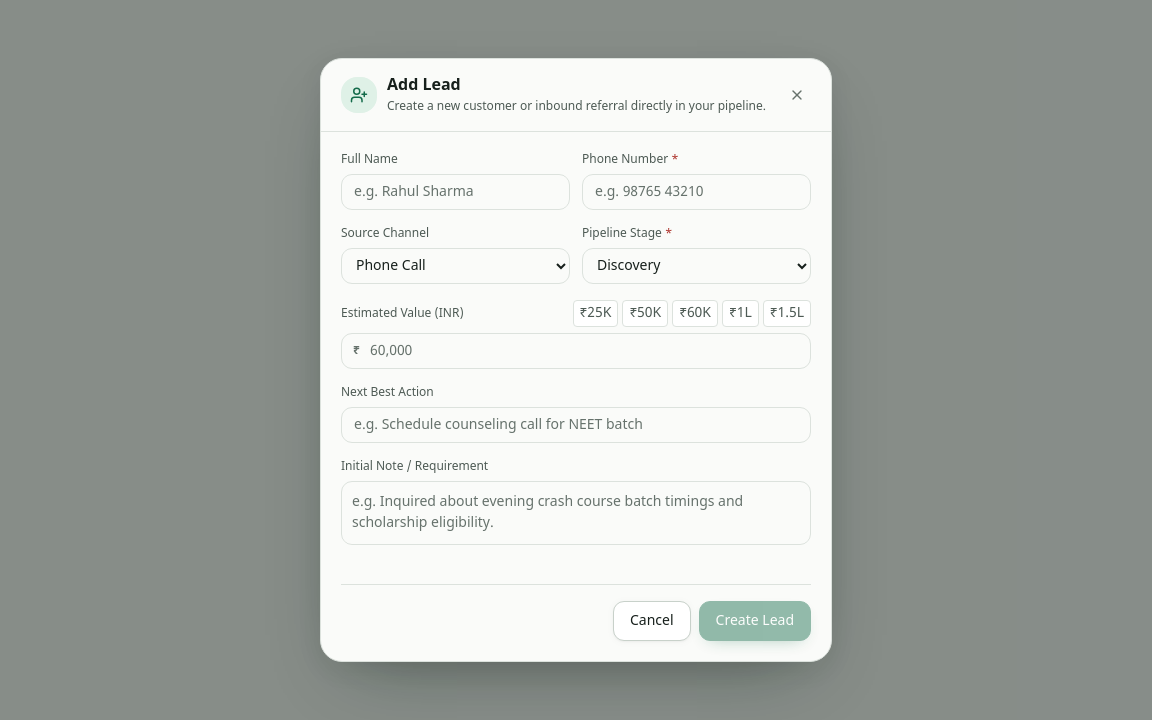
Test: AddLeadModal › refuses +91 as a phone number instead of minting a junk contact
In the field with placeholder "e.g. 98765 43210": (696, 192) [582,174,811,210], type "+91"
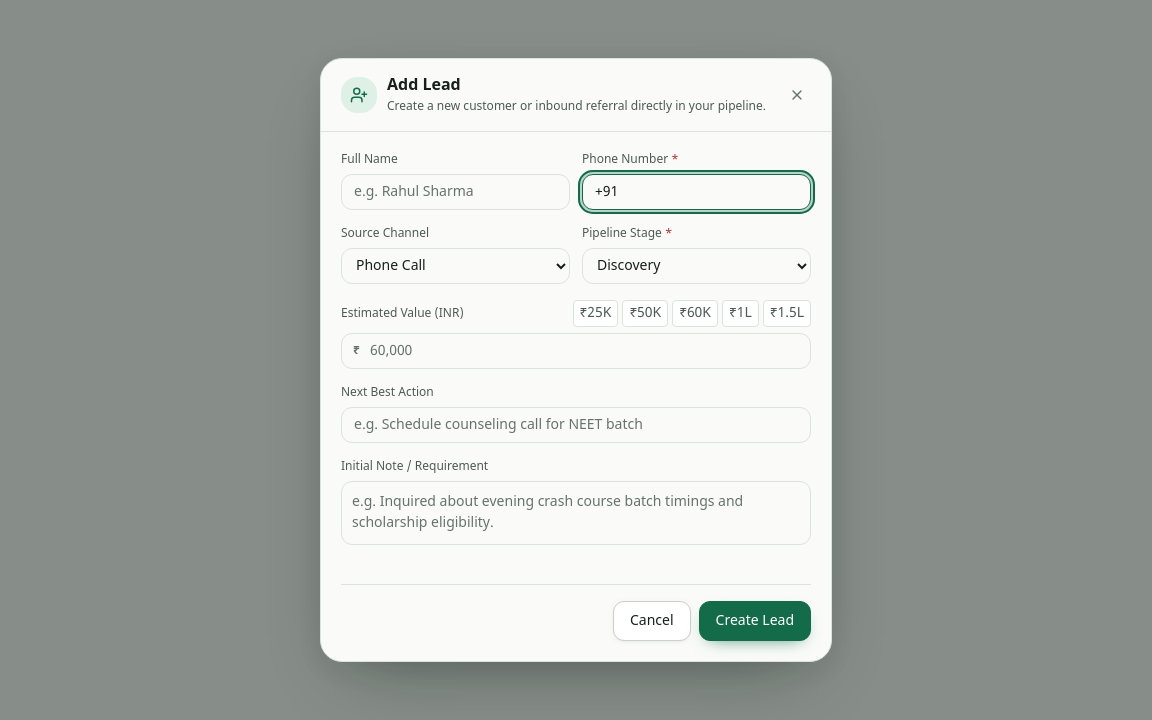
Click the button "Create Lead": (755, 621) [699,601,811,641]
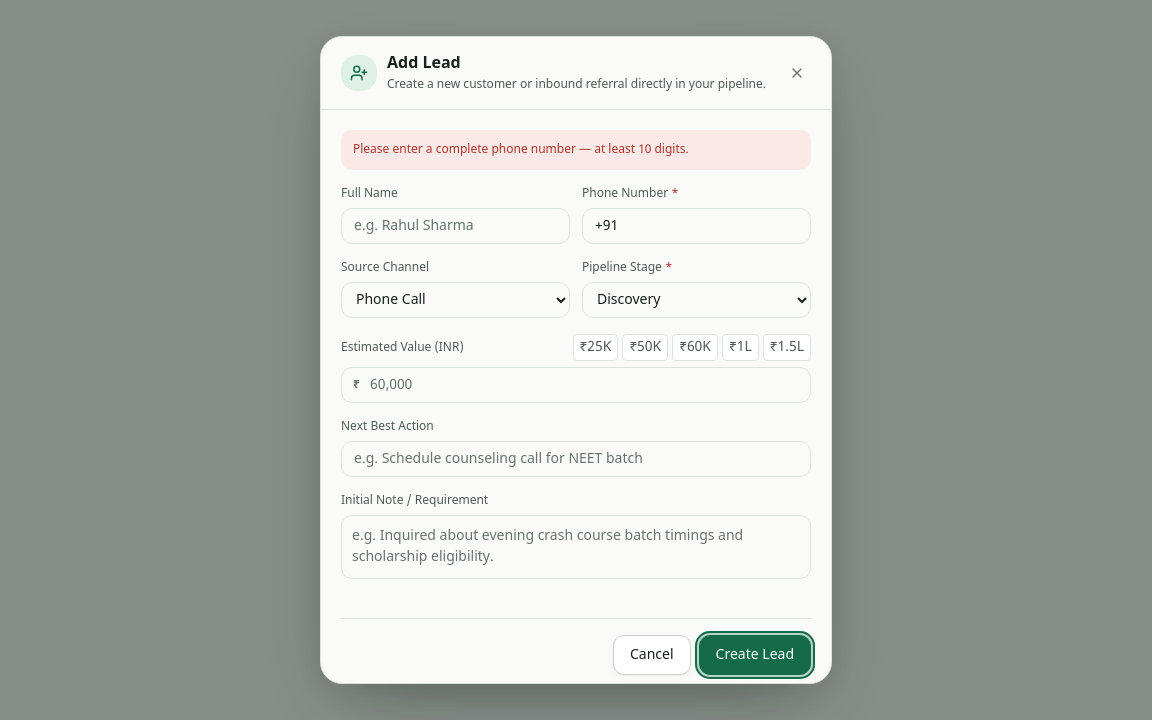
Check: the message shows "at least 10 digits", box [353,142,689,158]
